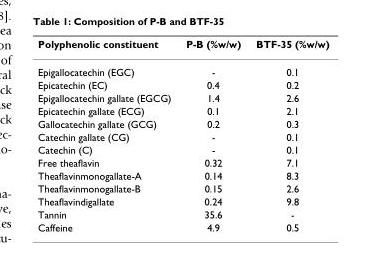table: (37, 37, 328, 232)
table column: (37, 37, 177, 232), (247, 37, 328, 232), (177, 37, 247, 232)
table column header: (37, 37, 328, 57)
table row: (37, 57, 328, 78), (37, 37, 328, 57), (37, 78, 328, 91), (37, 103, 328, 116), (37, 116, 328, 129), (37, 129, 328, 142), (37, 142, 328, 155), (37, 155, 328, 168), (37, 168, 328, 181), (37, 181, 328, 194), (37, 194, 328, 207), (37, 207, 328, 220), (37, 91, 328, 103), (37, 220, 328, 232)
